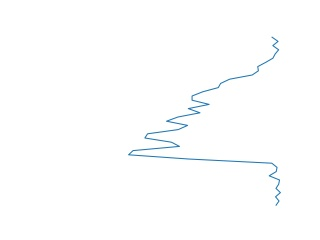proximalDeepseaFan: (126, 37, 287, 204)
